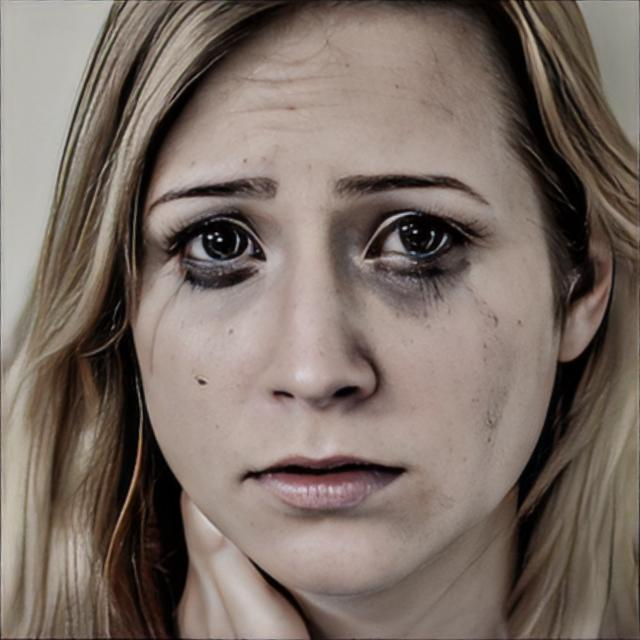sad: (132, 0, 560, 598)
